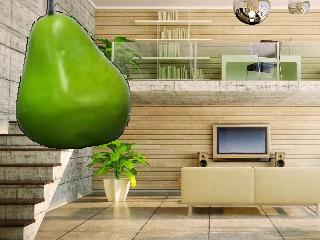pear: (16, 0, 131, 148)
